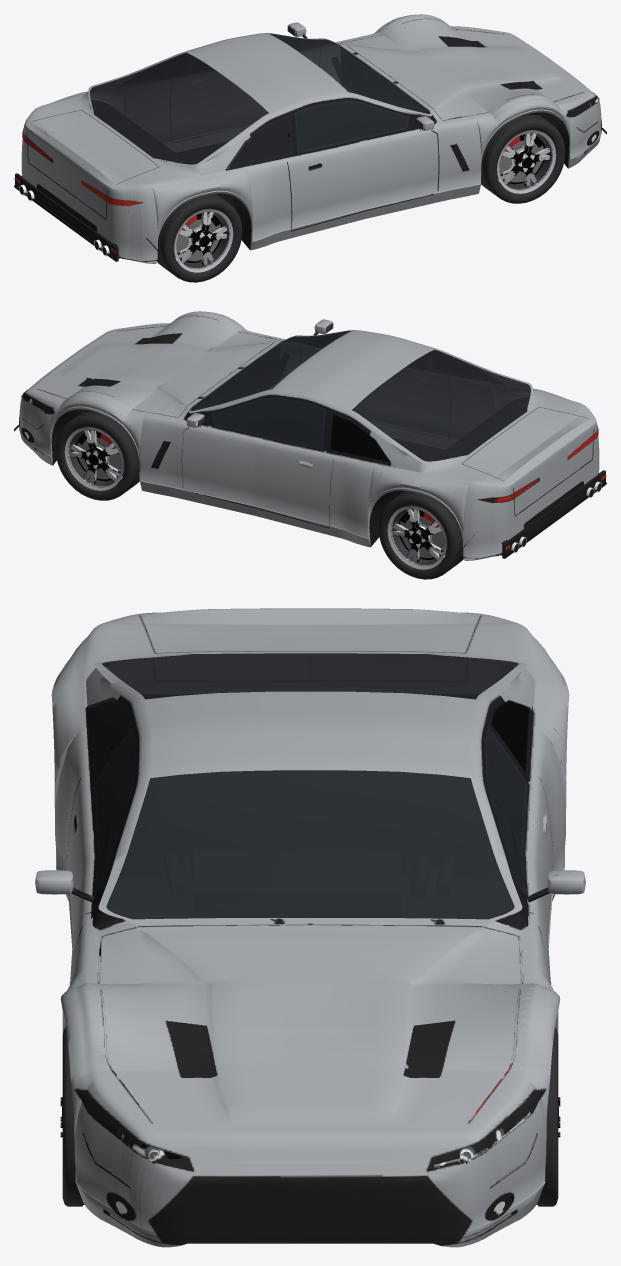
File: coupe_baked.glb
The picture shows the model from 3 angles, top to bottom: view 1: azimuth 30°, elevation 25°; view 2: azimuth 150°, elevation 25°; view 3: azimuth 270°, elevation 25°; orthographic projection. The views are drawn at different scales.
Parts seen in each view (by area): view 1: body, hood, wheel_fr, wheel_rr, bay; view 2: body, hood, wheel_fl, wheel_rl, bay; view 3: body, hood, wheel_fl, wheel_fr, lamp_head.
Boxes of the visible parts, bbox=[...] form: body: bbox=[14, 14, 606, 263]; hood: bbox=[338, 18, 590, 120]; wheel_fr: bbox=[481, 115, 565, 203]; wheel_rr: bbox=[157, 193, 242, 282]; bay: bbox=[341, 47, 429, 113]; body: bbox=[14, 311, 606, 560]; hood: bbox=[30, 315, 282, 417]; wheel_fl: bbox=[55, 412, 139, 500]; wheel_rl: bbox=[378, 490, 463, 579]; bay: bbox=[191, 344, 279, 410]; body: bbox=[35, 608, 585, 1247]; hood: bbox=[97, 924, 523, 1137]; wheel_fl: bbox=[536, 1028, 560, 1206]; wheel_fr: bbox=[60, 1028, 84, 1206]; lamp_head: bbox=[91, 1113, 529, 1213].
Size of the model in its own units: 4.54 by 1.21 by 2.13.
14 materials, 4 textured.
